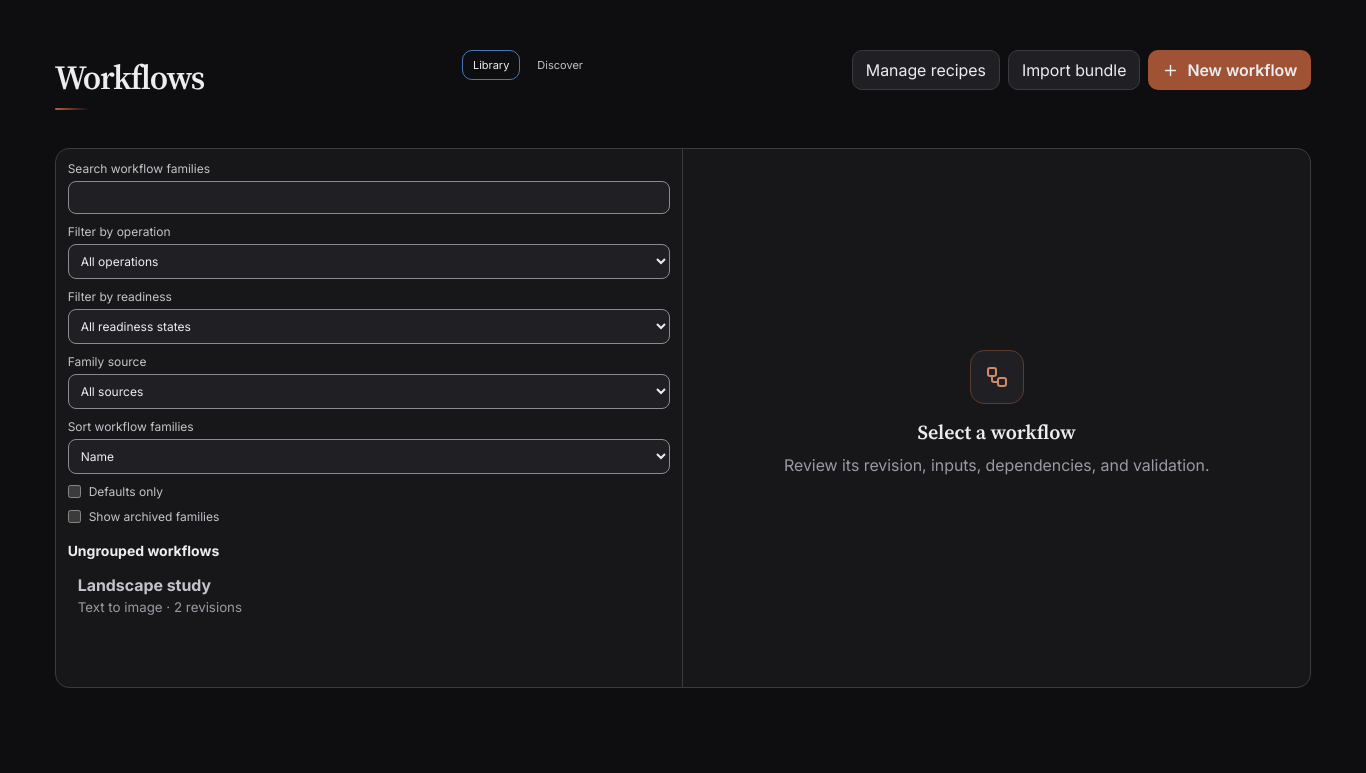
Test: validation belongs to the returned current revision › shows a matching current result and hides it while inspecting an older revision
Click the text "Landscape study". click: (144, 585)
box: [78,575,211,595]
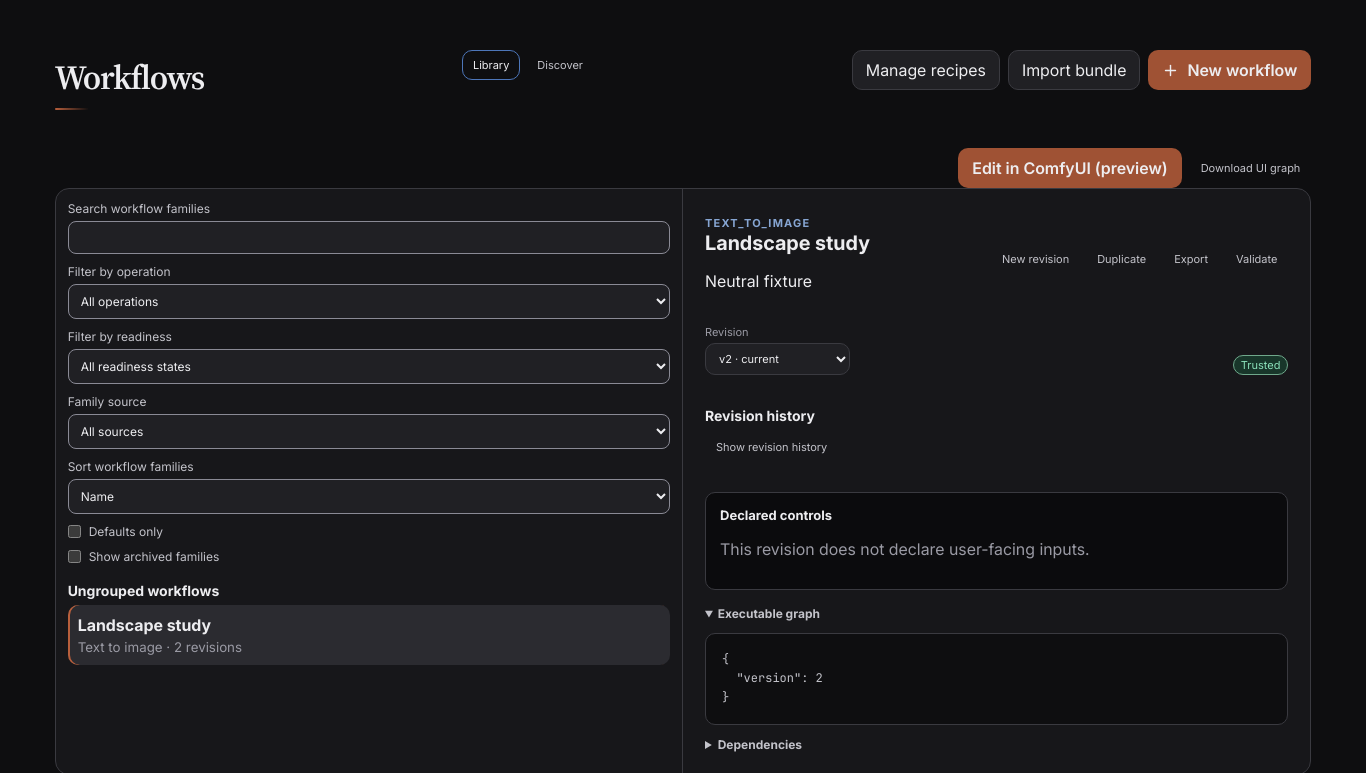
Expected: the button "New revision" is shown, [991,244,1080,274]
Click the button "Validate". click: (1257, 259)
box: [1225,244,1288,274]
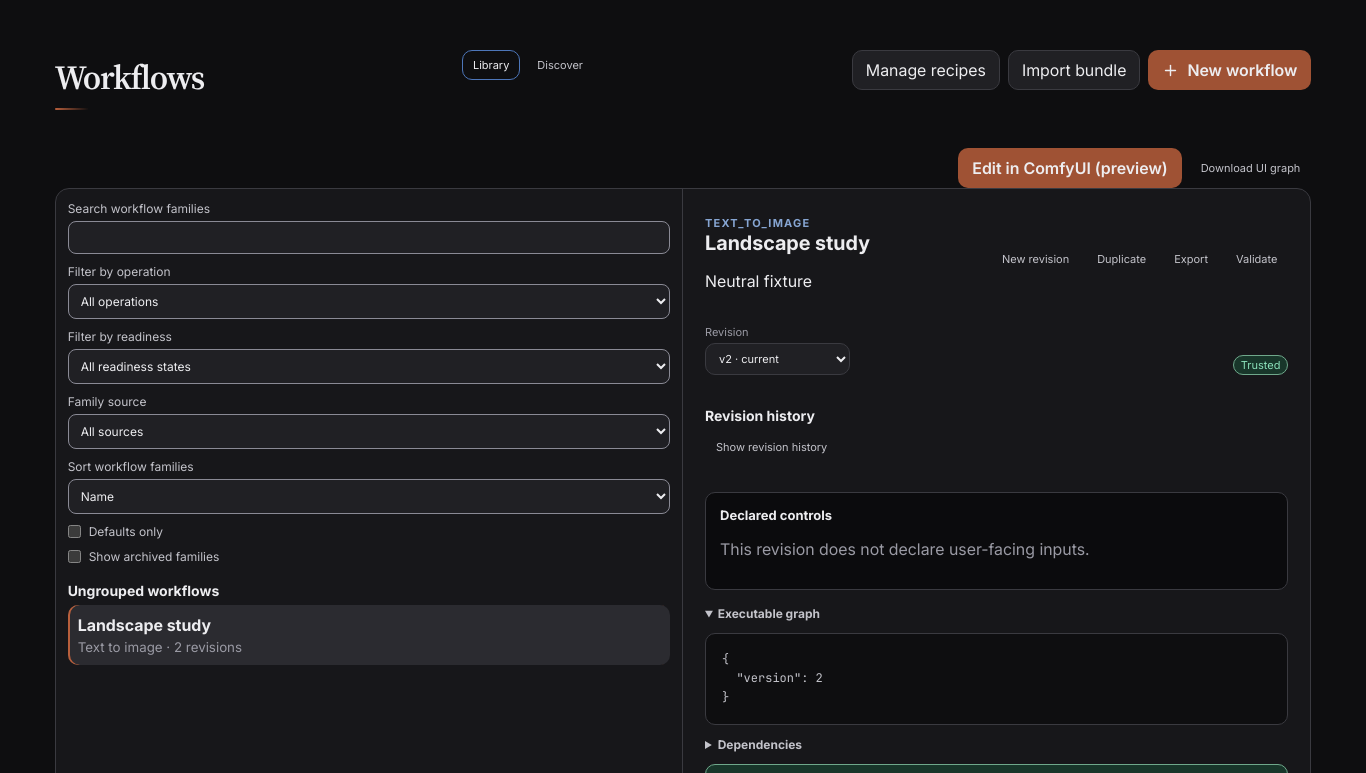
Select "v1" in the dropdown labelled "Revision". click: (778, 359)
box: [705,343,850,375]
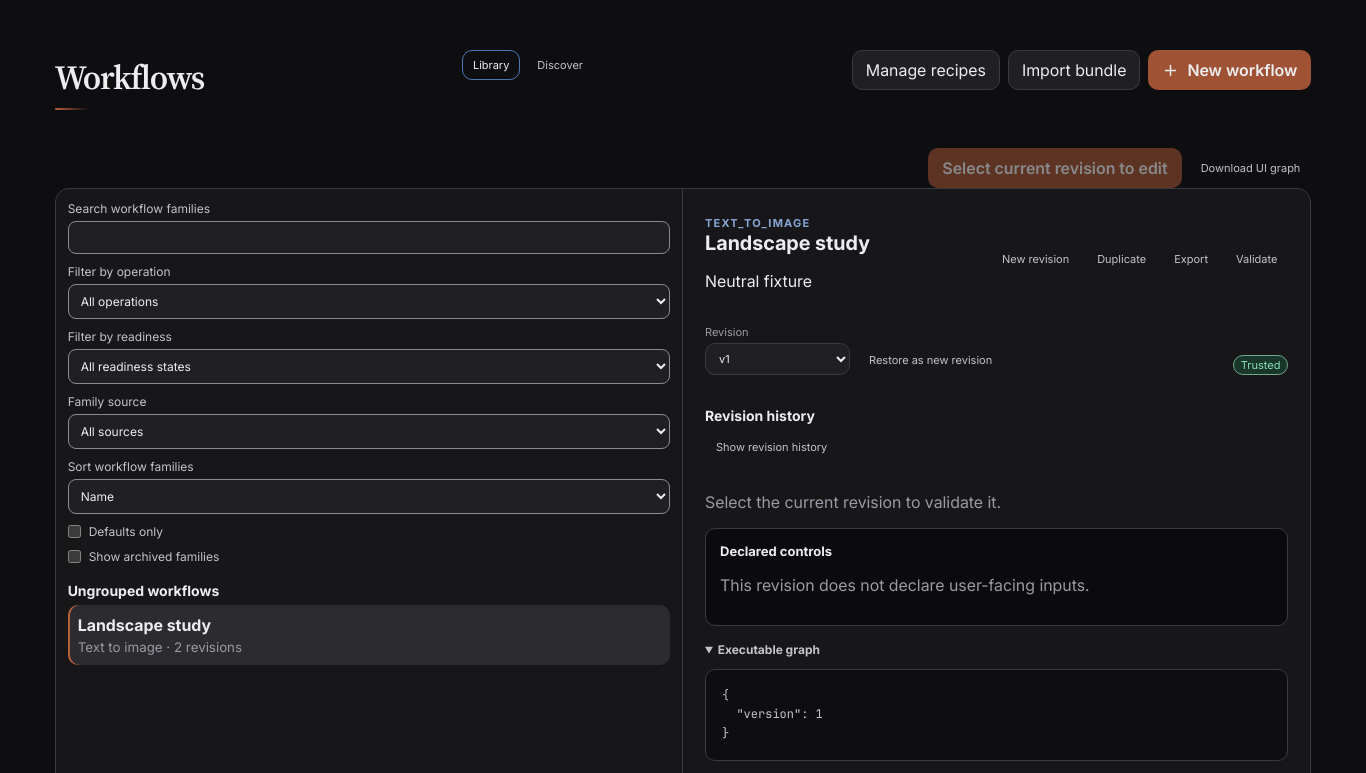
Select "v2 · current" in the dropdown labelled "Revision". click: (778, 359)
box: [705,343,850,375]
(page scrolled)
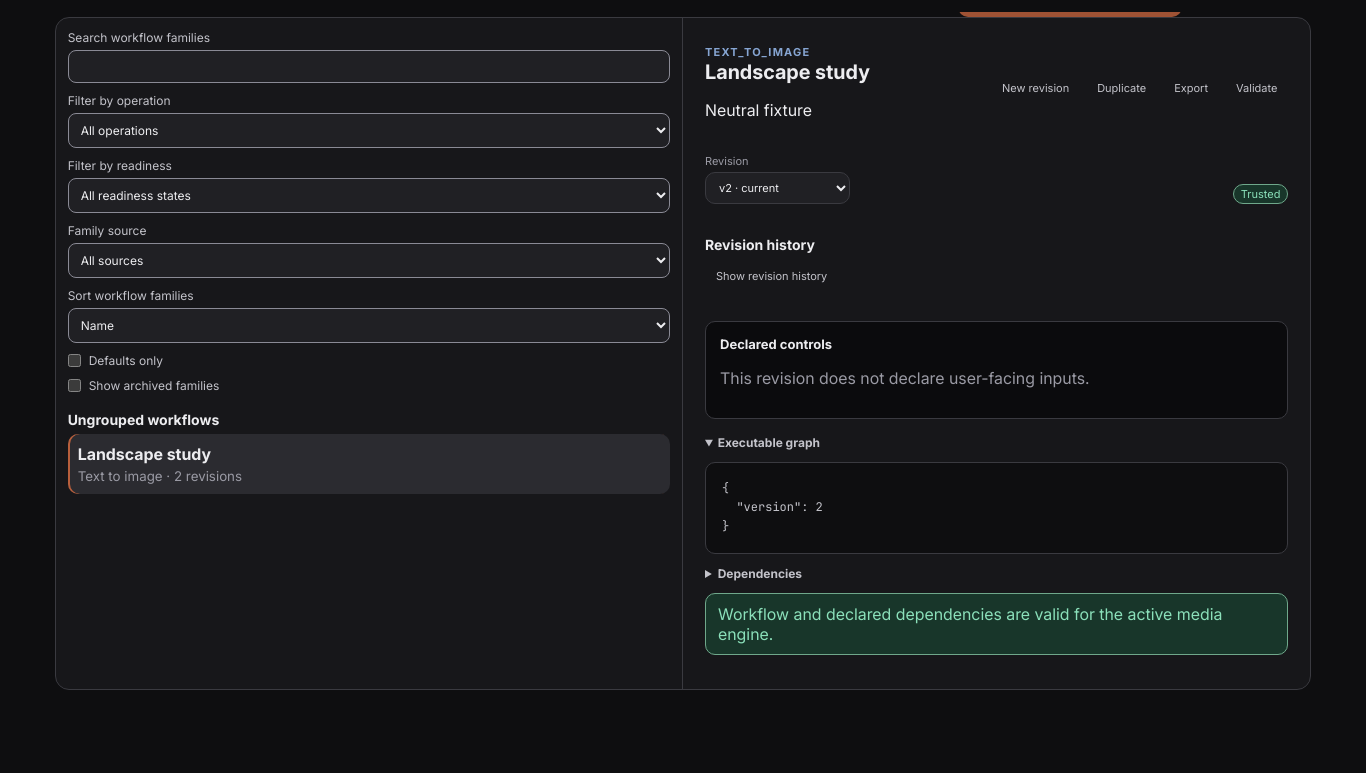
Expected: the text "Workflow and declared dependencies are valid for the active media engine." is shown, [705,593,1288,655]
